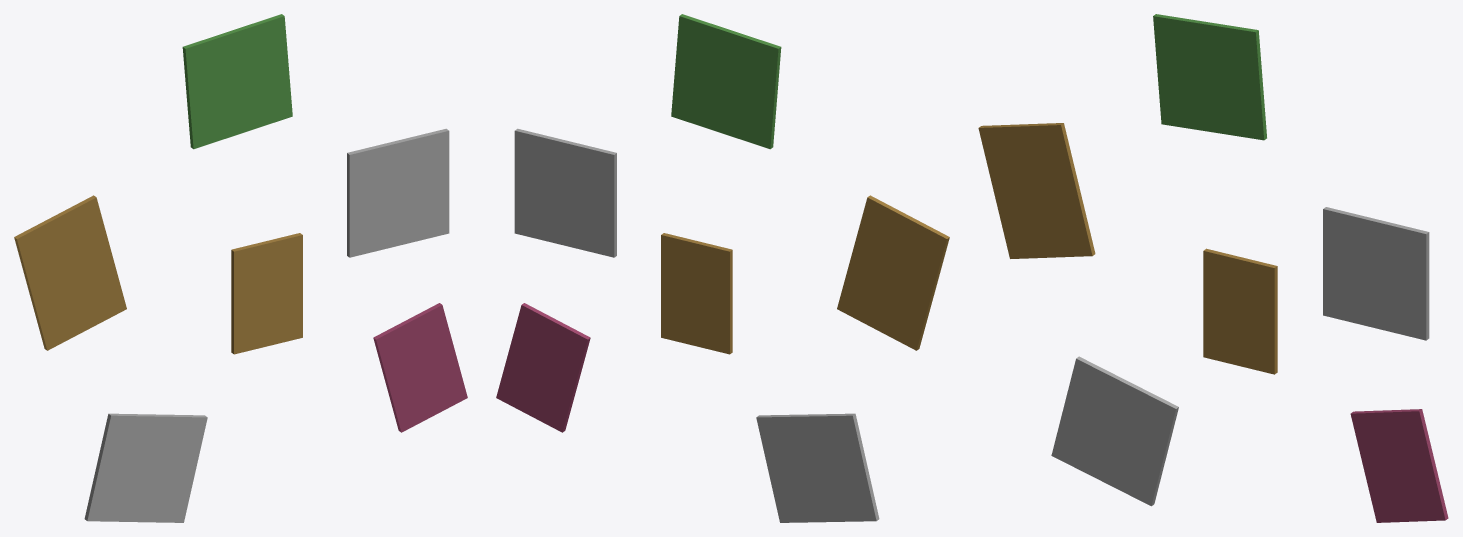
Rendered from SM_Props_Glass_Tag_01.fbx.
The picture shows the model from 3 angles, left to right: view 1: azimuth 30°, elevation 25°; view 2: azimuth 150°, elevation 25°; view 3: azimuth 330°, elevation 25°; orthographic projection. The views are drawn at different scales.
Parts seen in each view (by area): view 1: SM_Props_Glass_Tag_01; view 2: SM_Props_Glass_Tag_01; view 3: SM_Props_Glass_Tag_01.
Part boxes in pixels (x1,y1,x2,y2): SM_Props_Glass_Tag_01: (14,14,467,522); SM_Props_Glass_Tag_01: (496,14,949,522); SM_Props_Glass_Tag_01: (978,14,1448,522).
Bounding box in the file's own units: 55.1 × 56.3 × 0.6.
